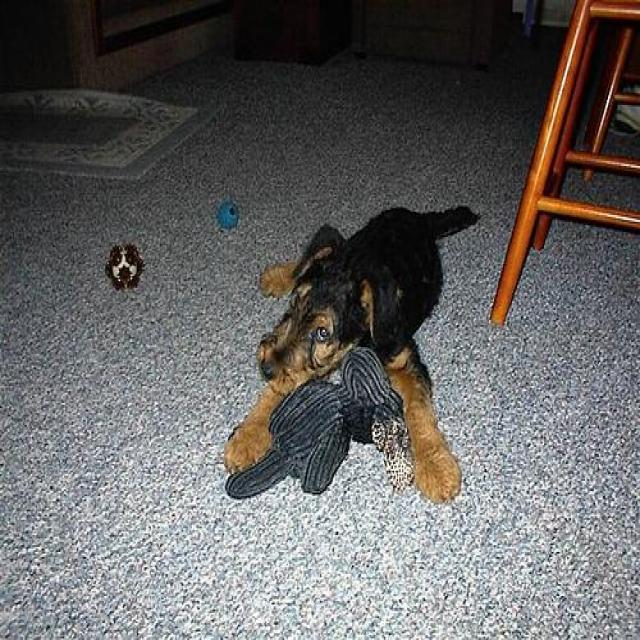airedale: (224, 203, 484, 511)
